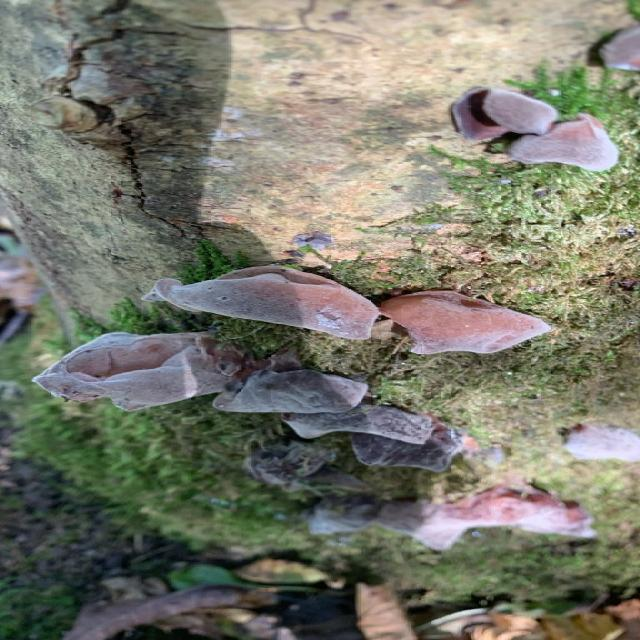Matang: (43, 321, 465, 468), (127, 258, 557, 357), (443, 76, 622, 178)
